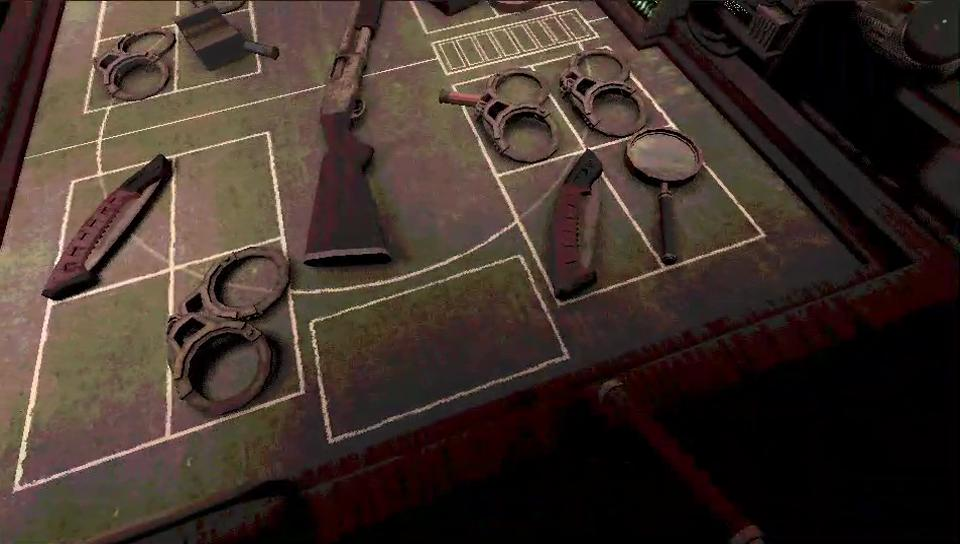ally: (0, 23, 883, 543)
cigar: (174, 8, 250, 69)
doubledamage: (44, 154, 172, 298), (543, 150, 603, 299)
emptyspace: (18, 268, 171, 491), (175, 129, 275, 268)
gun: (304, 0, 391, 266)
handcuff: (166, 247, 288, 416), (476, 68, 557, 163), (560, 47, 644, 137), (94, 28, 176, 101)
lens: (624, 124, 702, 263)
